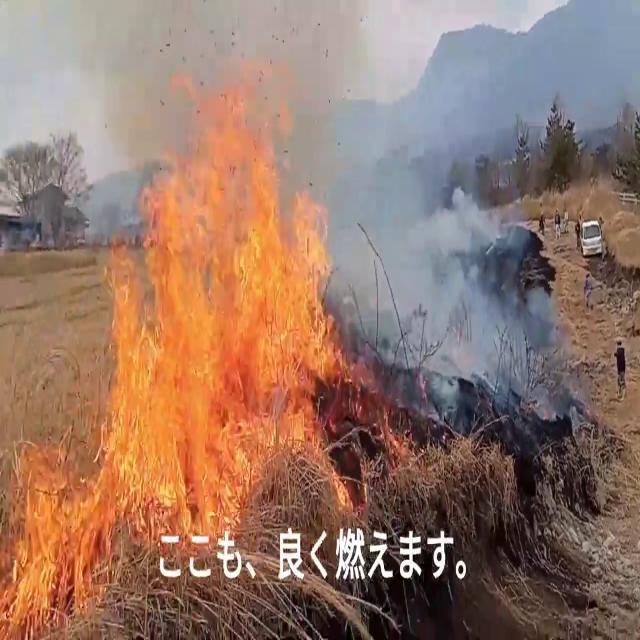Fire: (95, 64, 362, 519)
Smoke: (290, 2, 540, 404)
